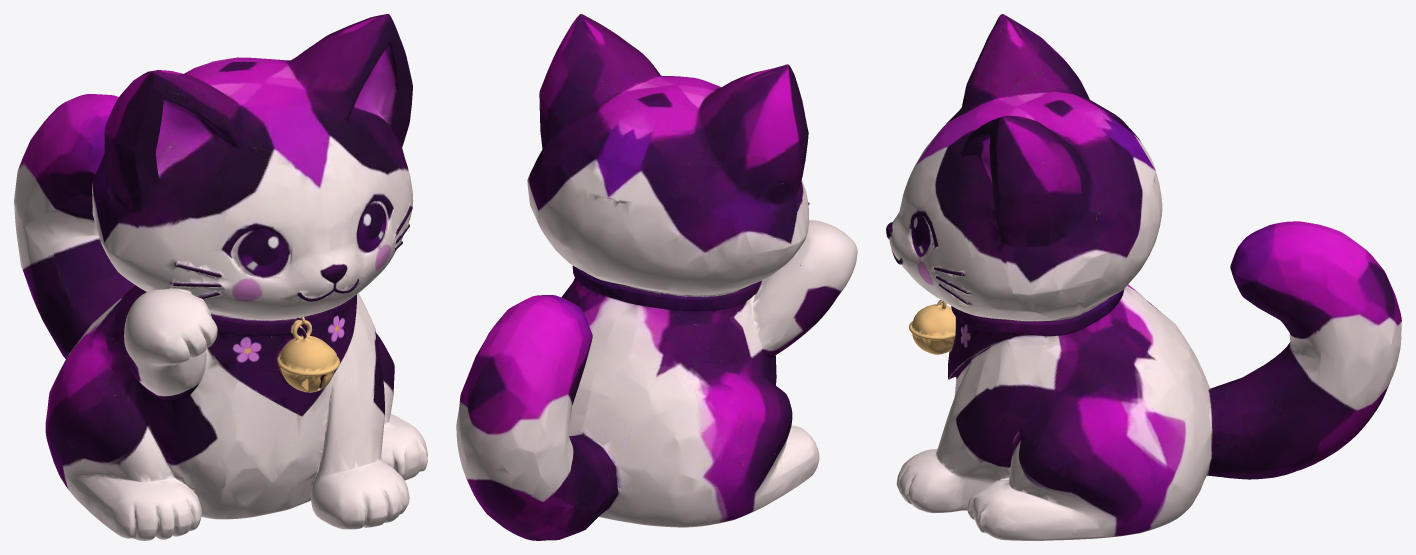
File: cat-beckoning.glb
3 renders of one model, left to right at view 1: azimuth 30°, elevation 25°; view 2: azimuth 150°, elevation 25°; view 3: azimuth 270°, elevation 25°, orthographic. The views are drawn at different scales.
Bounding box in the file's own units: 1.21 × 1.67 × 1.9.
1 material, 1 textured.
